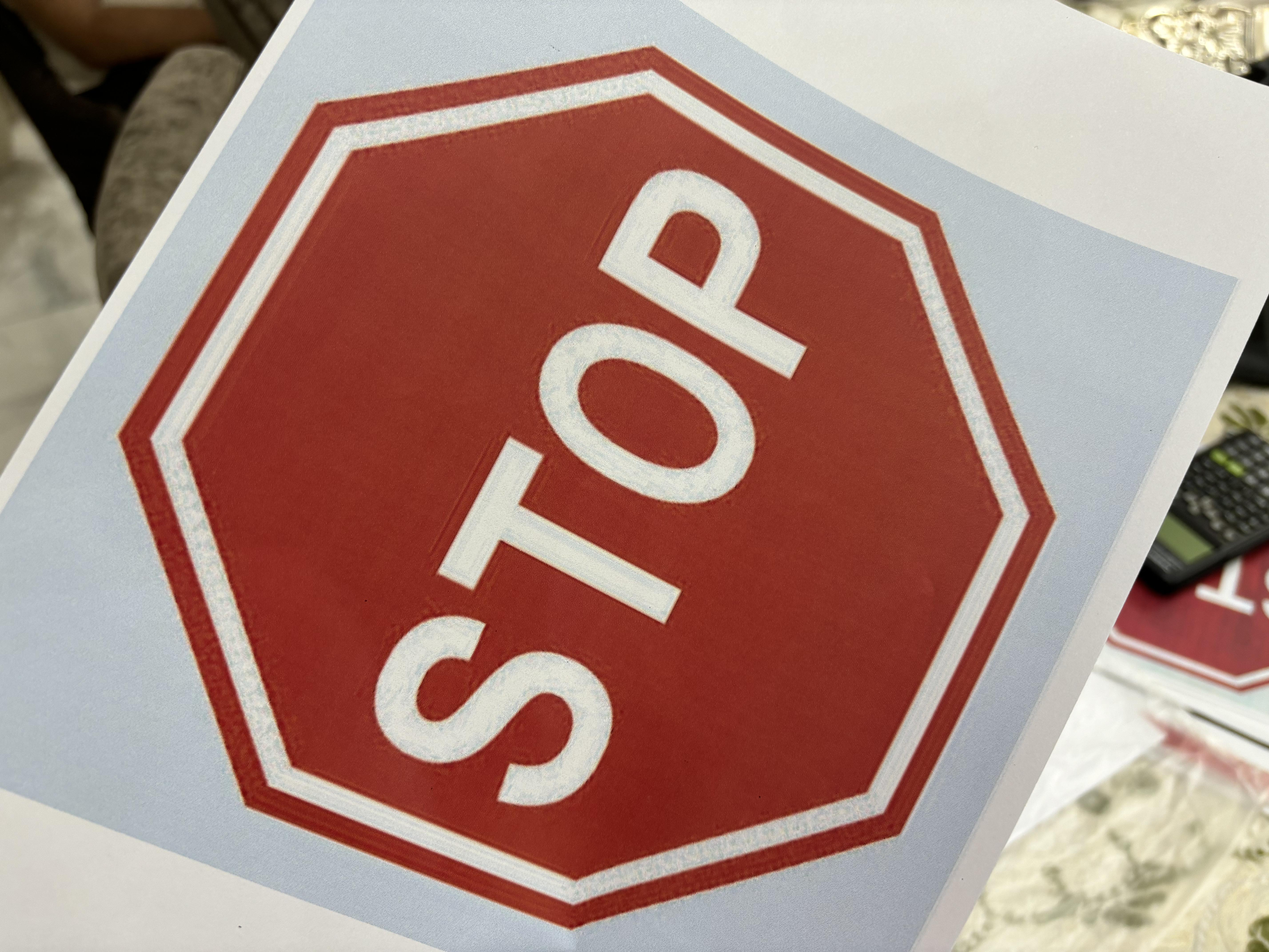Stop: (107, 40, 1075, 924)
